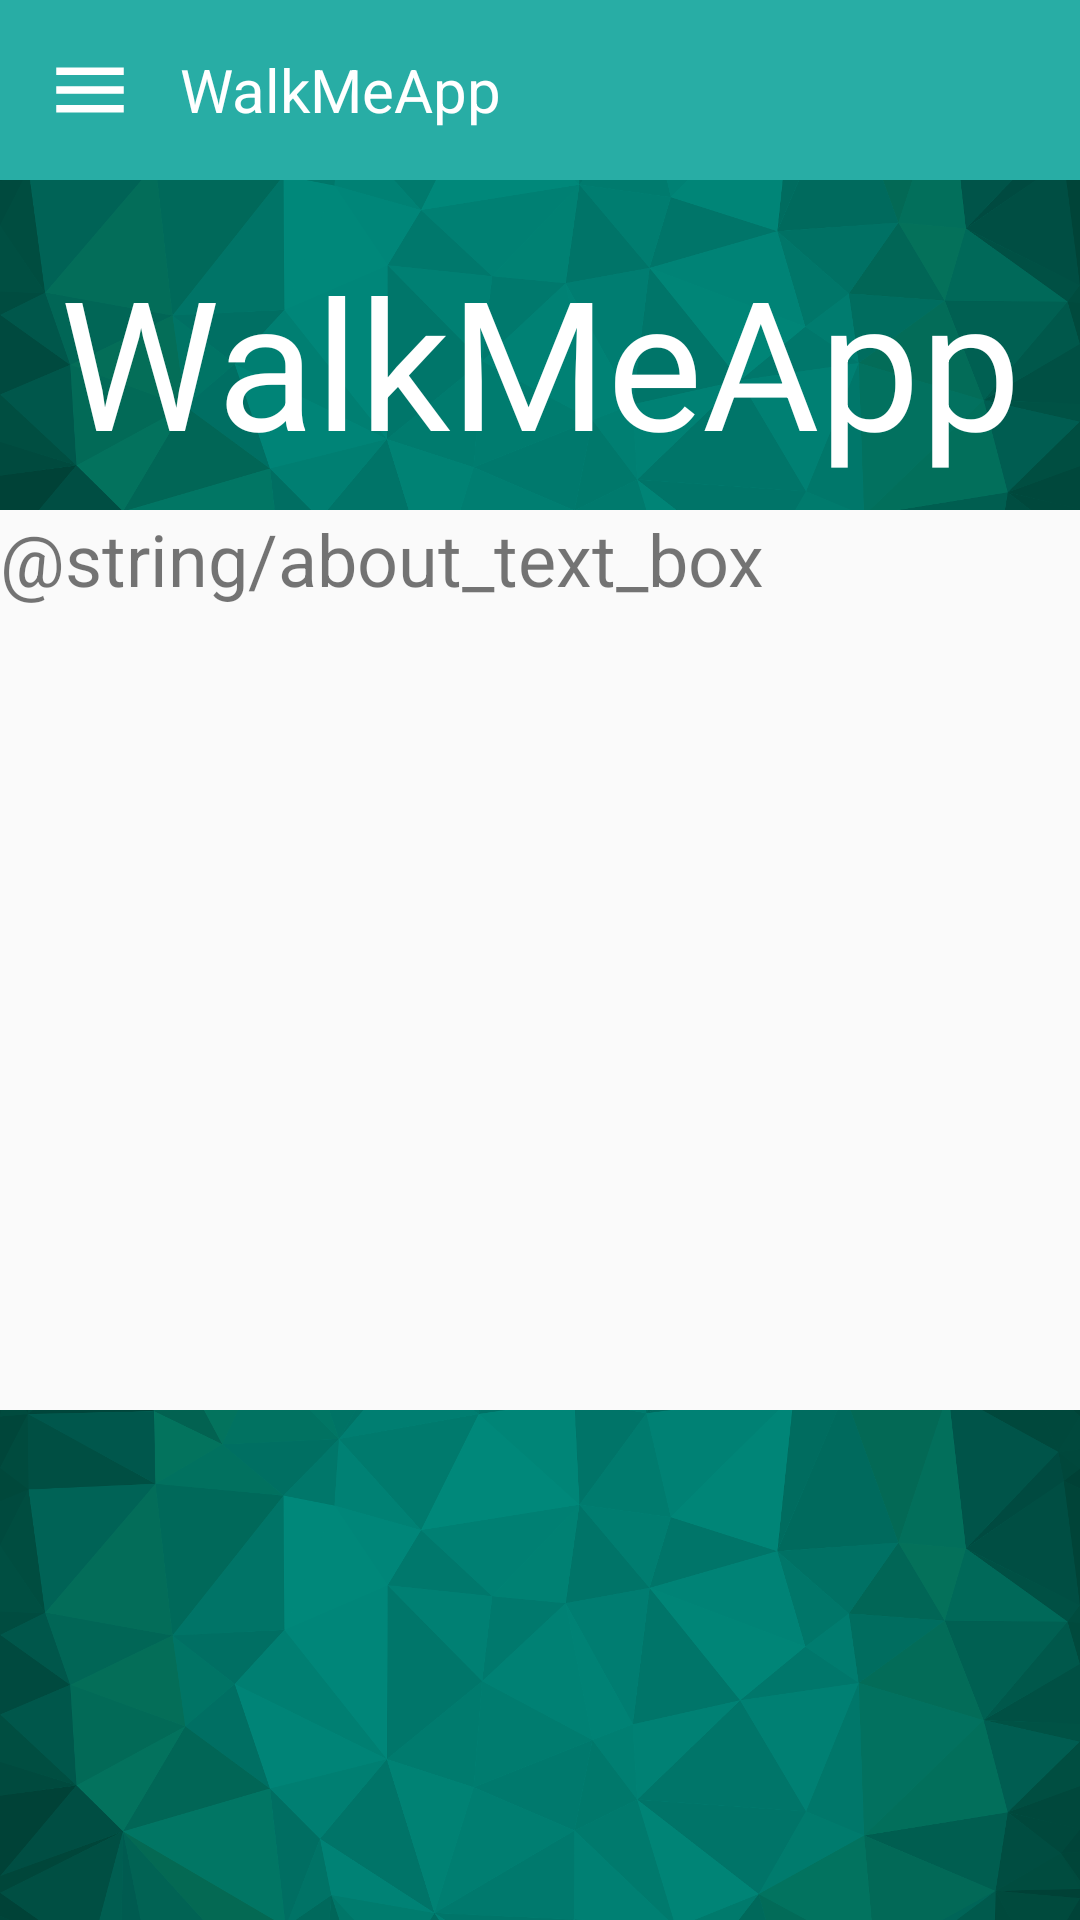

Point at icon controls on the screen. Image size 1080×1920, points as [x,y].
menu: [90,90]
